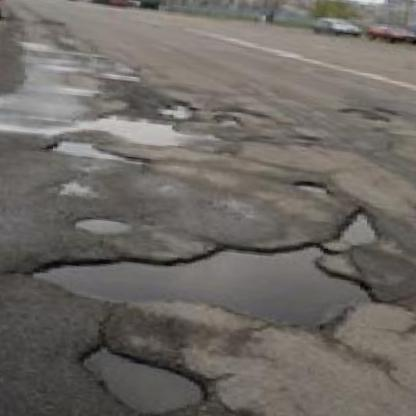pothole: (21, 213, 380, 343), (75, 342, 212, 416), (42, 136, 151, 170), (341, 105, 391, 124), (157, 97, 193, 122), (292, 178, 327, 194), (213, 112, 245, 129)
